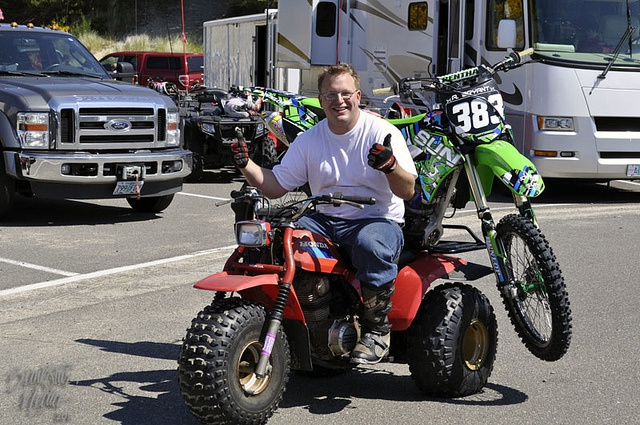non-vehicle: (243, 40, 574, 361), (174, 191, 500, 420)
